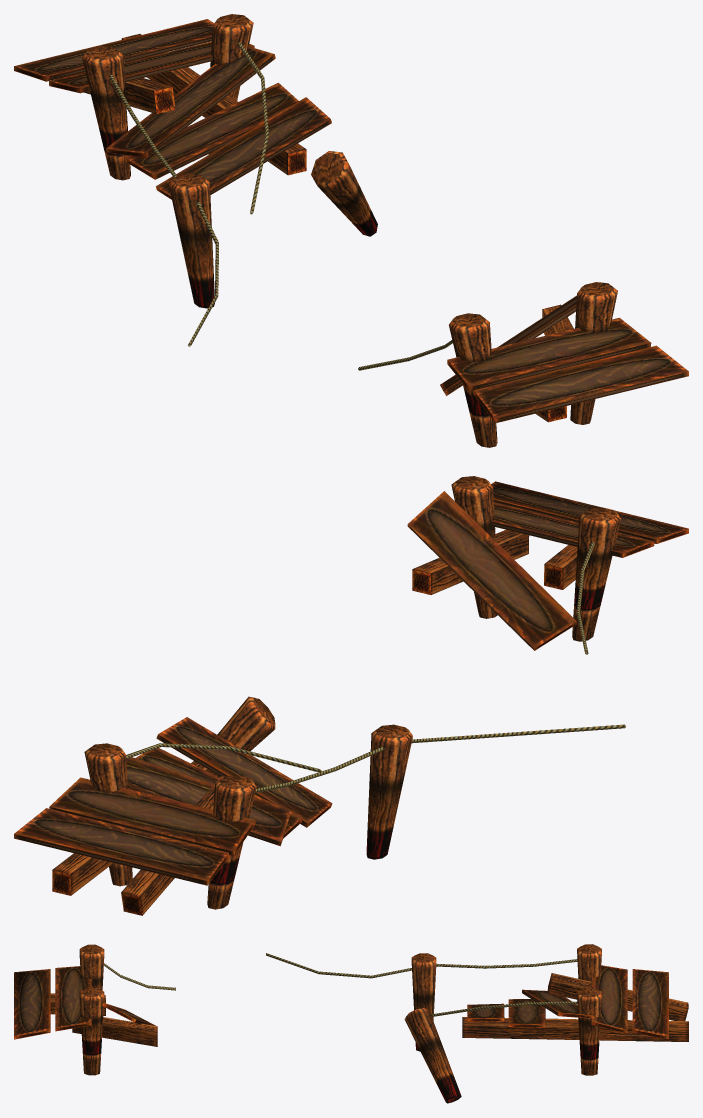
Rendered from BRIDGE_BROKEN.fbx.
The picture shows the model from 3 angles, top to bottom: view 1: azimuth 30°, elevation 25°; view 2: azimuth 150°, elevation 25°; view 3: azimuth 270°, elevation 25°; orthographic projection. The views are drawn at different scales.
Visible parts, largest first — view 1: BRIDGE_BROKEN; view 2: BRIDGE_BROKEN; view 3: BRIDGE_BROKEN.
Part boxes in pixels (x1,y1,x2,y2): BRIDGE_BROKEN: [14, 14, 688, 447]; BRIDGE_BROKEN: [14, 476, 688, 915]; BRIDGE_BROKEN: [14, 944, 688, 1103].
Bounding box in the file's own units: 55745 × 25743 × 147456.
4 materials, 4 textured.
